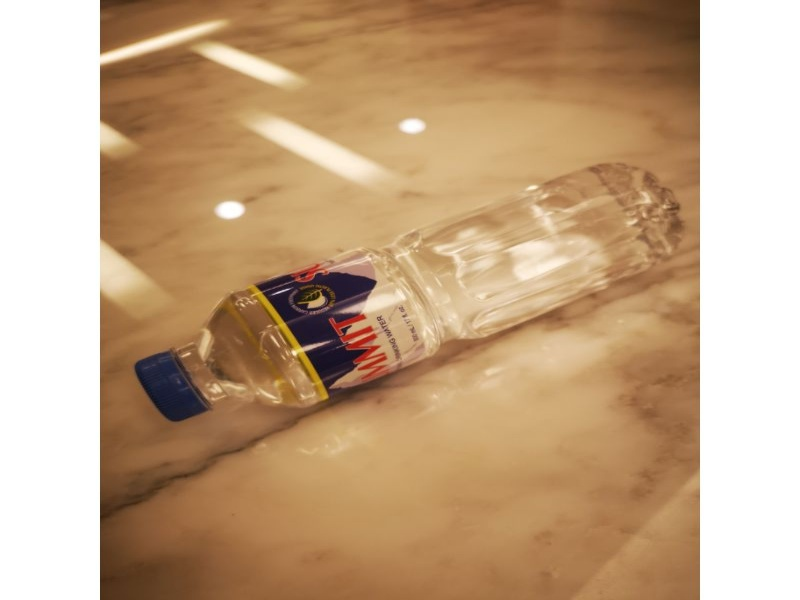PET #1: (134, 155, 685, 424)
